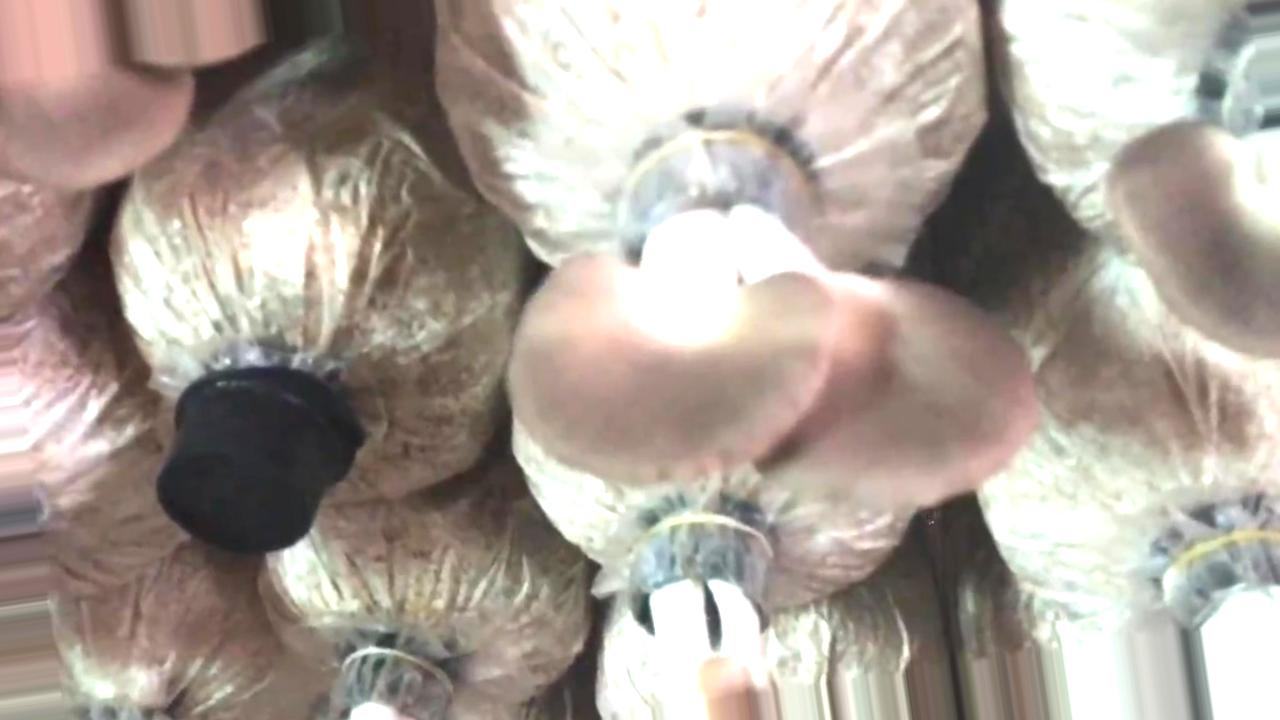nam: (500, 103, 1038, 523), (1118, 118, 1280, 358), (645, 516, 781, 720)
